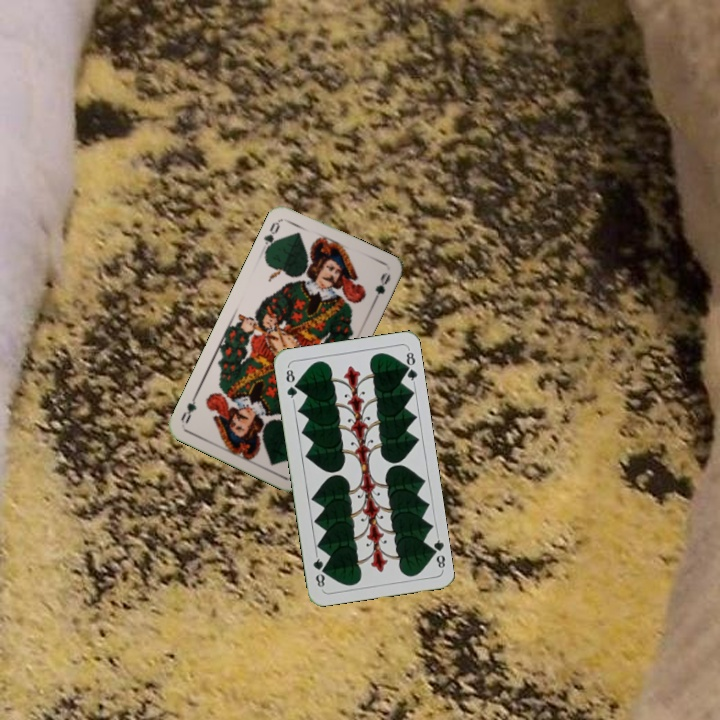G8: (426, 532, 448, 572), (282, 363, 300, 404)
GO: (259, 217, 283, 255)
